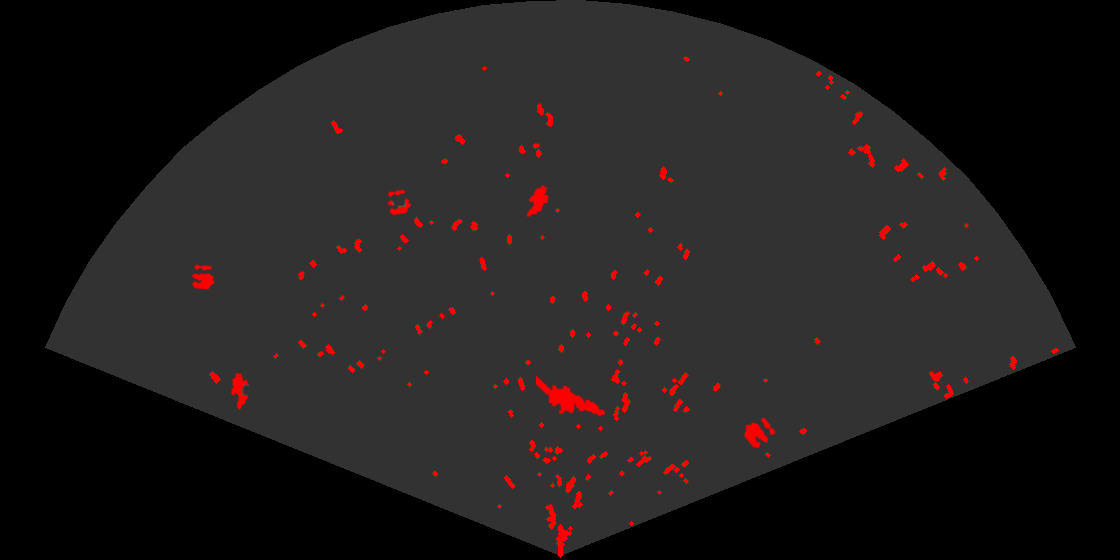AUV: (525, 183, 550, 219), (230, 371, 251, 412)
ball: (742, 416, 777, 450), (385, 188, 412, 217), (190, 263, 216, 291)
frogman: (536, 373, 607, 418)
